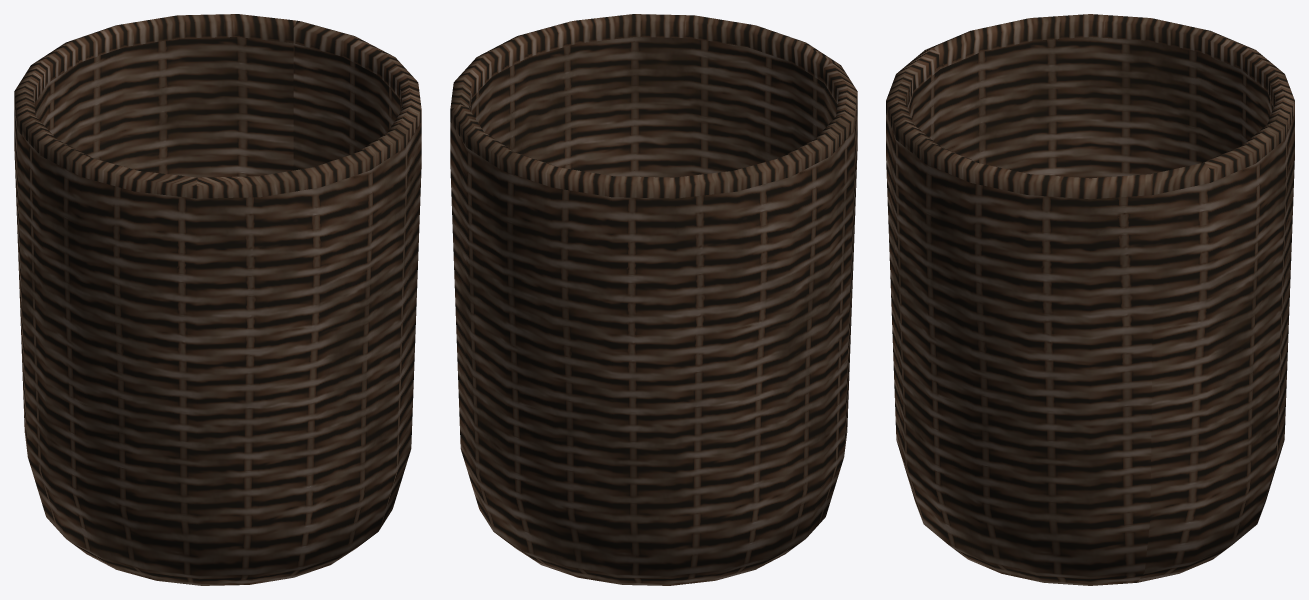
File: basket_2.FBX
The picture shows the model from 3 angles, left to right: view 1: azimuth 30°, elevation 25°; view 2: azimuth 150°, elevation 25°; view 3: azimuth 270°, elevation 25°; orthographic projection.
Parts seen in each view (by area): view 1: mesh; view 2: mesh; view 3: mesh.
Part boxes in pixels (box(x1,y1,x2,y2)): mesh: box(14, 14, 421, 585); mesh: box(450, 14, 857, 585); mesh: box(886, 14, 1294, 585).
Size of the model in its own units: 79.56 by 79.56 by 91.41.
